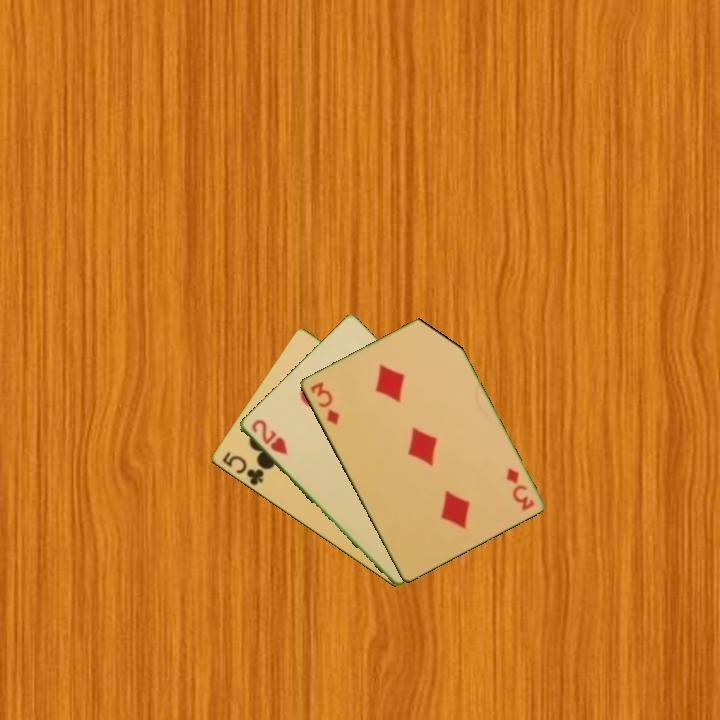2h: (248, 416, 290, 458)
3d: (306, 378, 342, 428), (502, 464, 537, 514)
5c: (218, 448, 267, 489)
